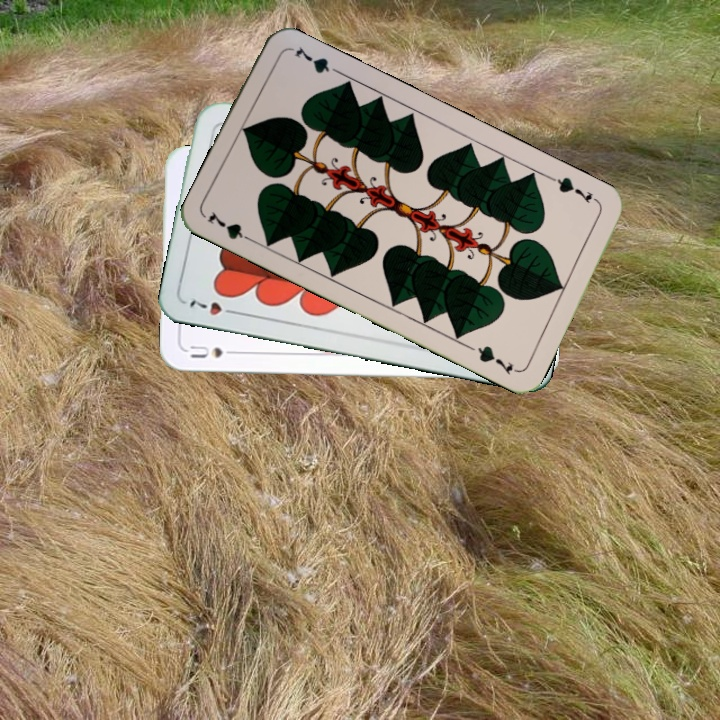G7: (203, 207, 258, 246), (547, 172, 602, 206)
H7: (185, 293, 241, 318)
SU: (186, 342, 243, 361)
